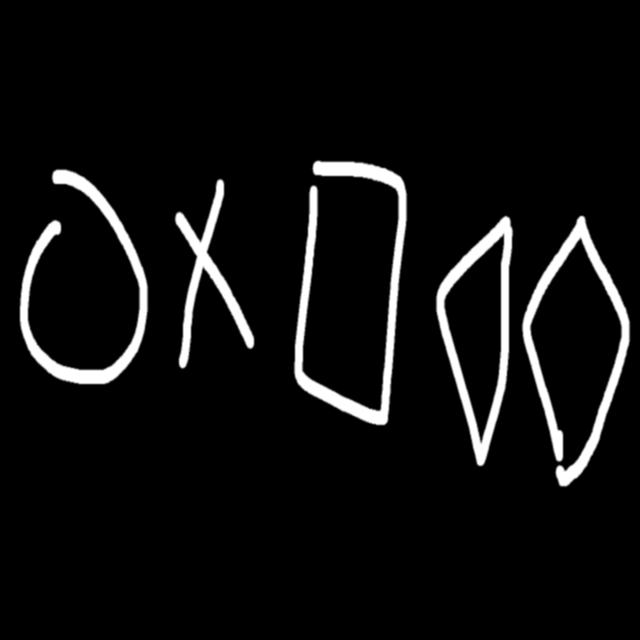Circle: (21, 170, 148, 383)
Cross: (176, 181, 254, 366)
Diamond: (524, 216, 630, 485)
Square: (294, 161, 406, 423)
Triangle: (436, 217, 512, 464)
